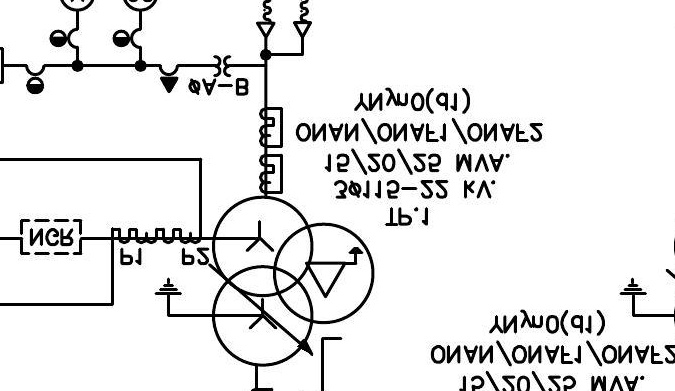11522_tx_ynyn0d1: (211, 194, 376, 368)
terminator_double: (255, 21, 313, 57)
